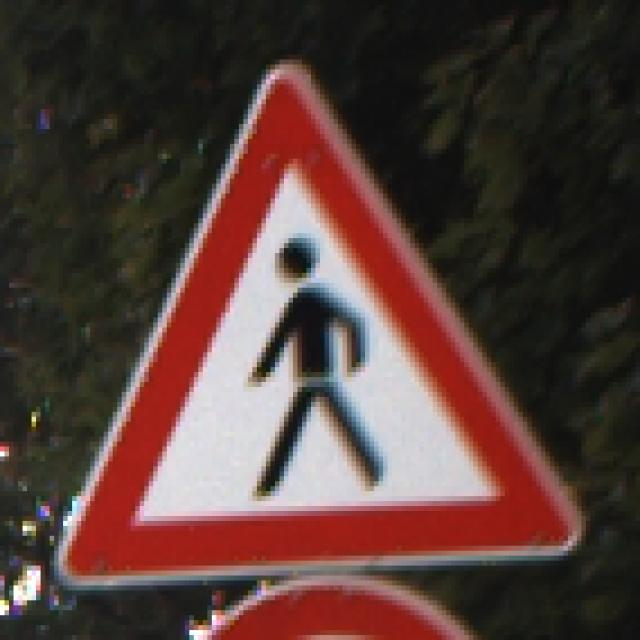pedestrian crossing: (63, 63, 567, 561)
